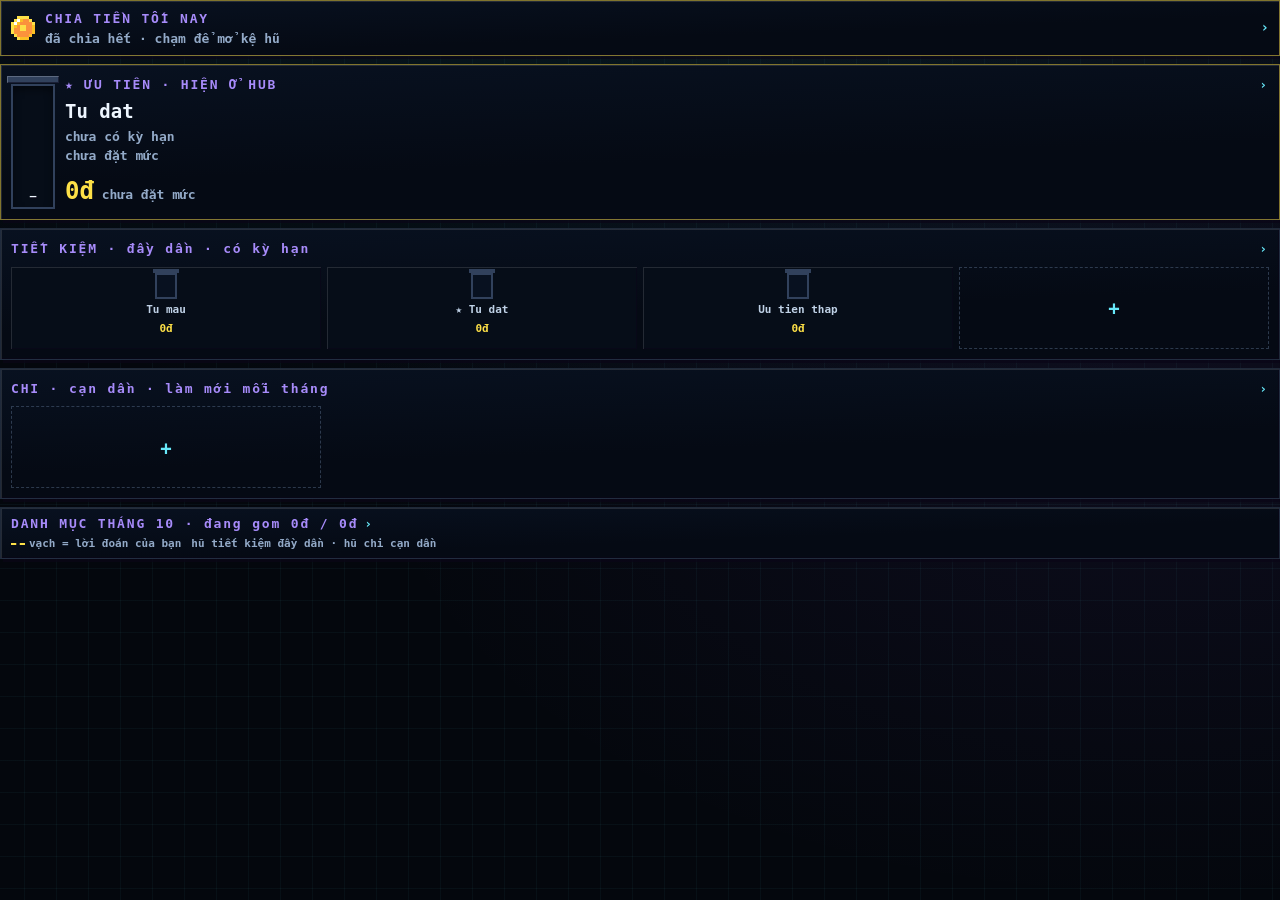
§II — ⭐⭐ Tạo hũ TỰ ĐẶT: tên là thứ duy nhất bắt buộc › ⭐⭐ SAO chỉ đeo cho ưu tiên CAO, và mẫu thì KHÔNG BAO GIỜ đeo
Click the button "TIẾT KIỆM · đầy dần · có kỳ hạn ›" at (161, 249), box x1=11 y1=239 x2=1269 y2=259
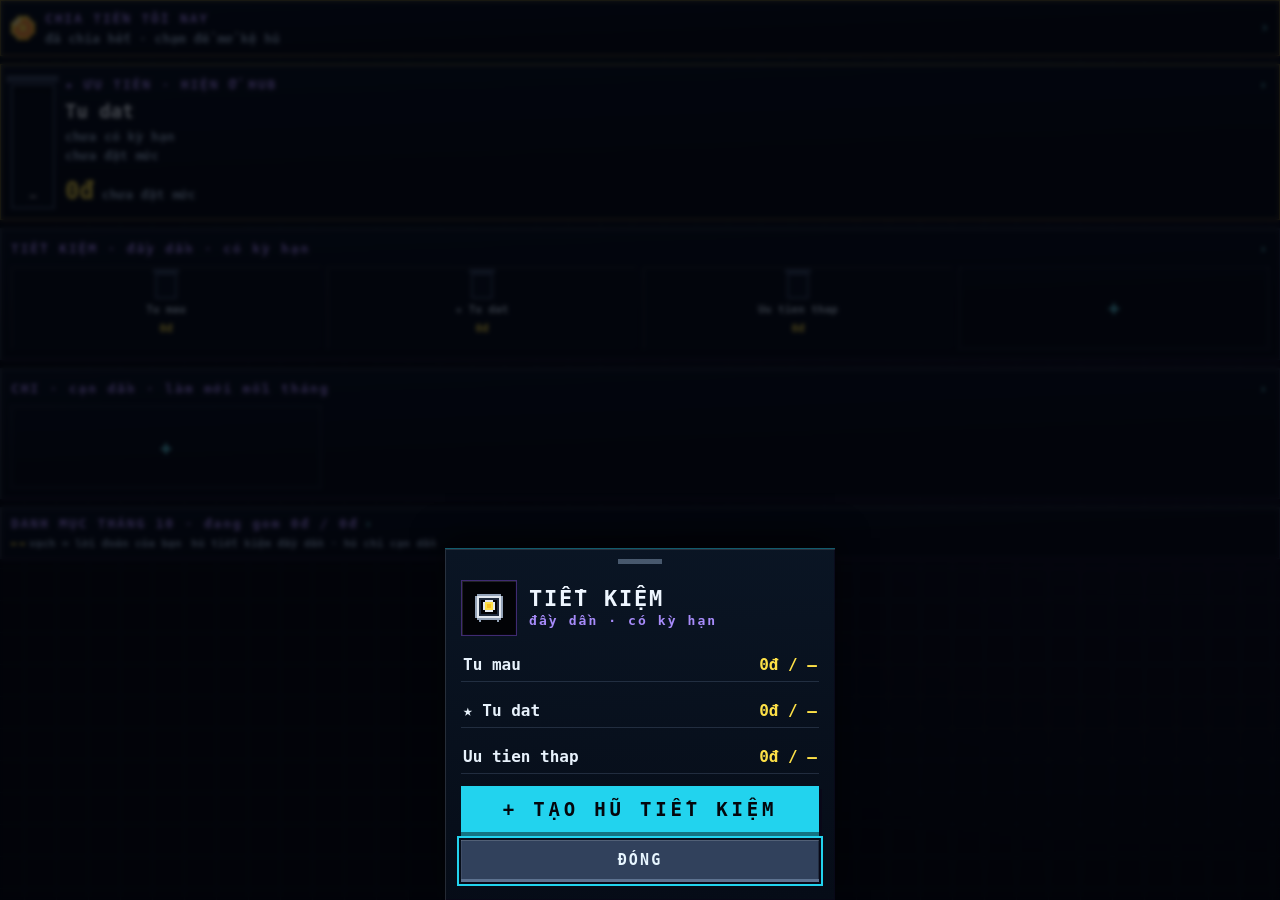
Expected: the number of buttons with test id "nhom-hang-hu" is 3, x1=461 y1=648 x2=819 y2=682; x1=461 y1=694 x2=819 y2=728; x1=461 y1=740 x2=819 y2=774
Expected: the button with test id "nhom-hang-hu" shows "Tu dat", x1=461 y1=694 x2=819 y2=728
